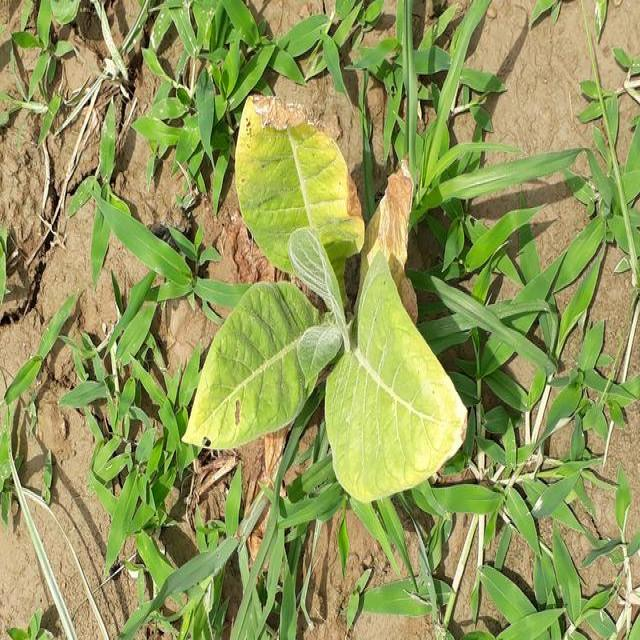crop: (192, 66, 472, 516)
